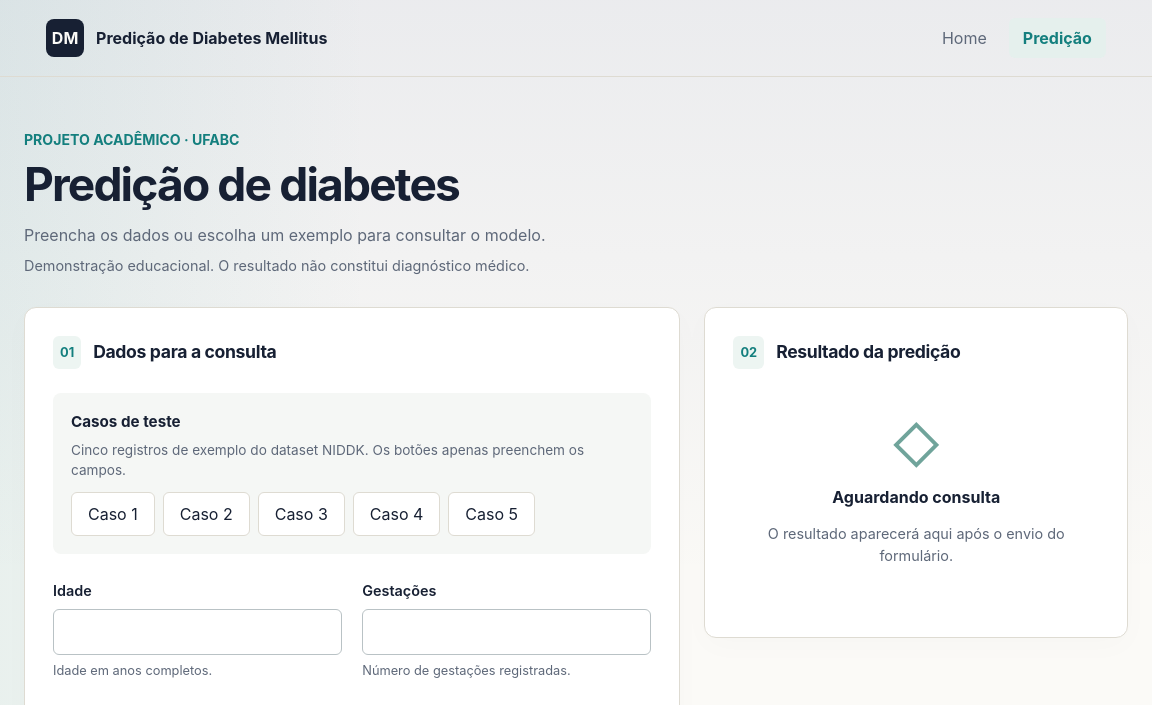
it: Formulário de predição › posts numeric fields and shows the prediction and model version
Click the button "Caso 1": (113, 514) [71,492,155,536]
(page scrolled)
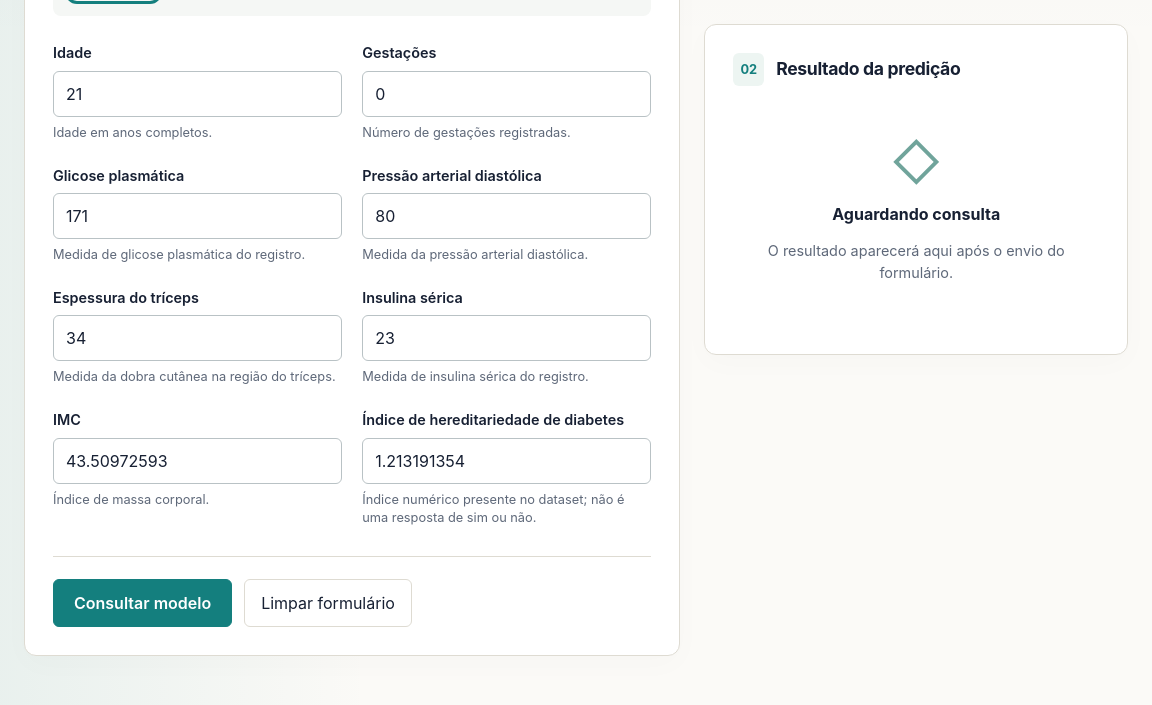
Click the button "Consultar modelo": (143, 603) [53,579,232,627]
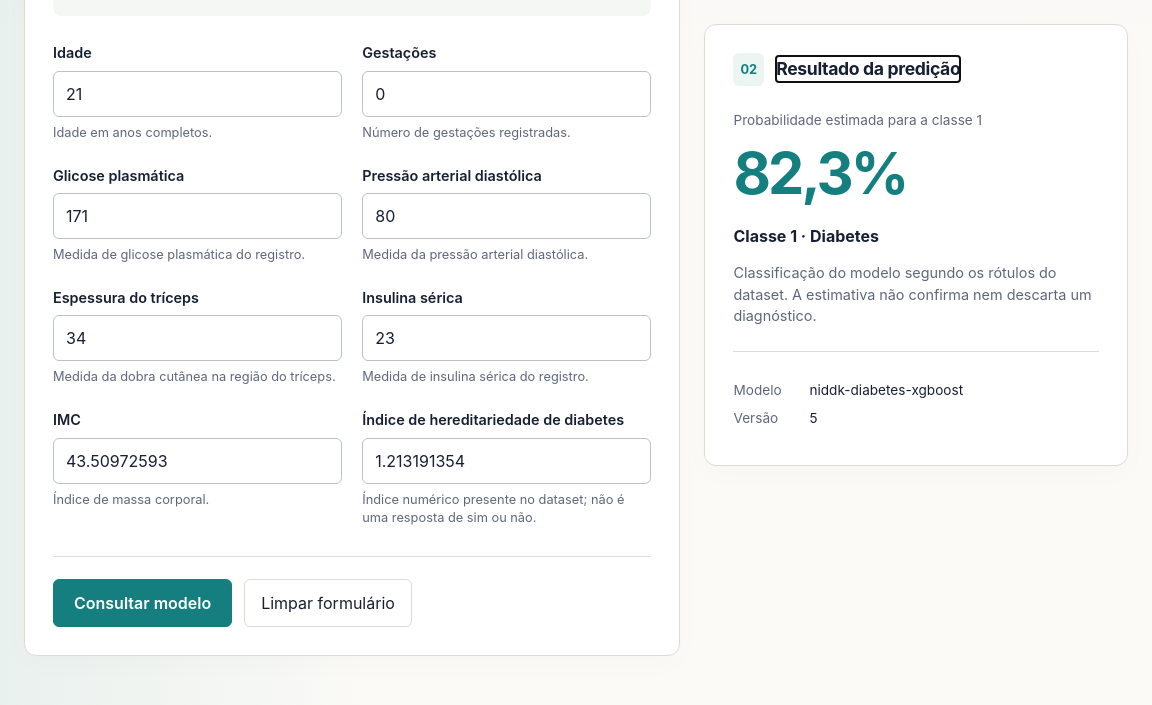
Now the text "82,3%" is shown, box [734,139,906,209]
Now the text "Classe 1 · Diabetes" is shown, box [734,226,879,246]
Now the text "niddk-diabetes-xgboost" is shown, box [810,382,963,398]
